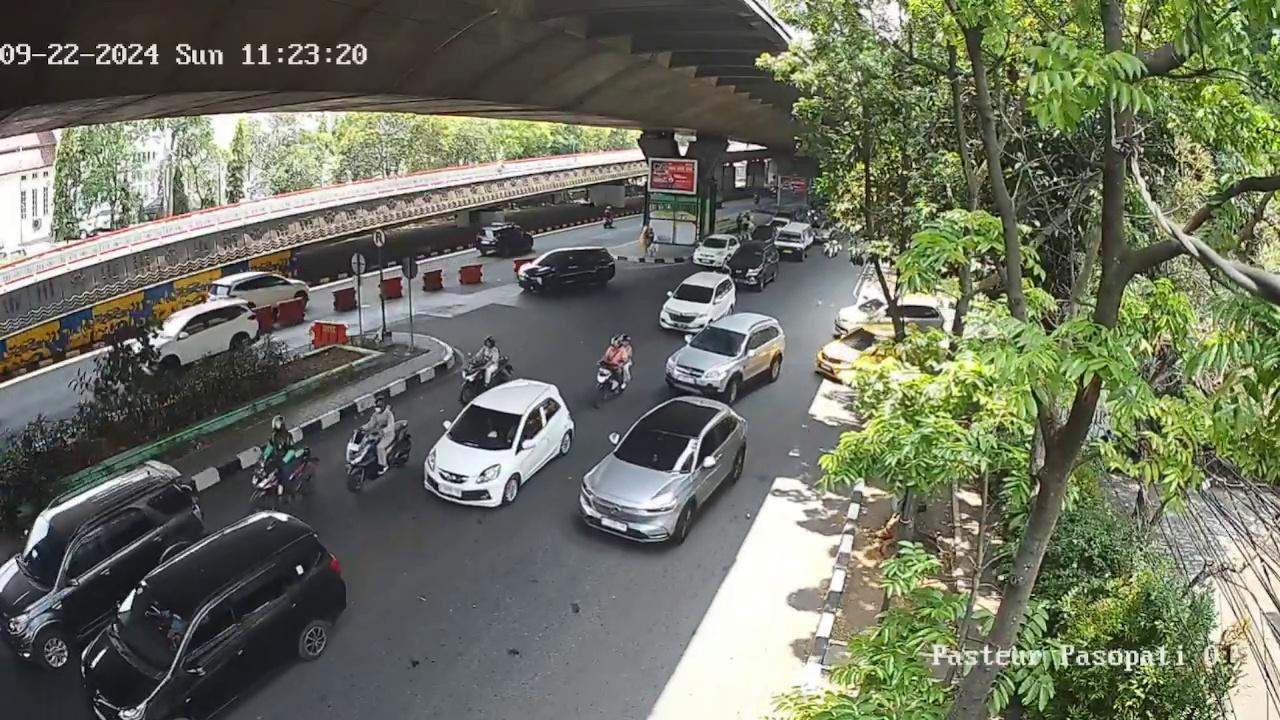windshield: (110, 585, 193, 673), (615, 425, 696, 478), (16, 513, 68, 581), (442, 405, 524, 447), (687, 325, 748, 358), (671, 281, 720, 304)
